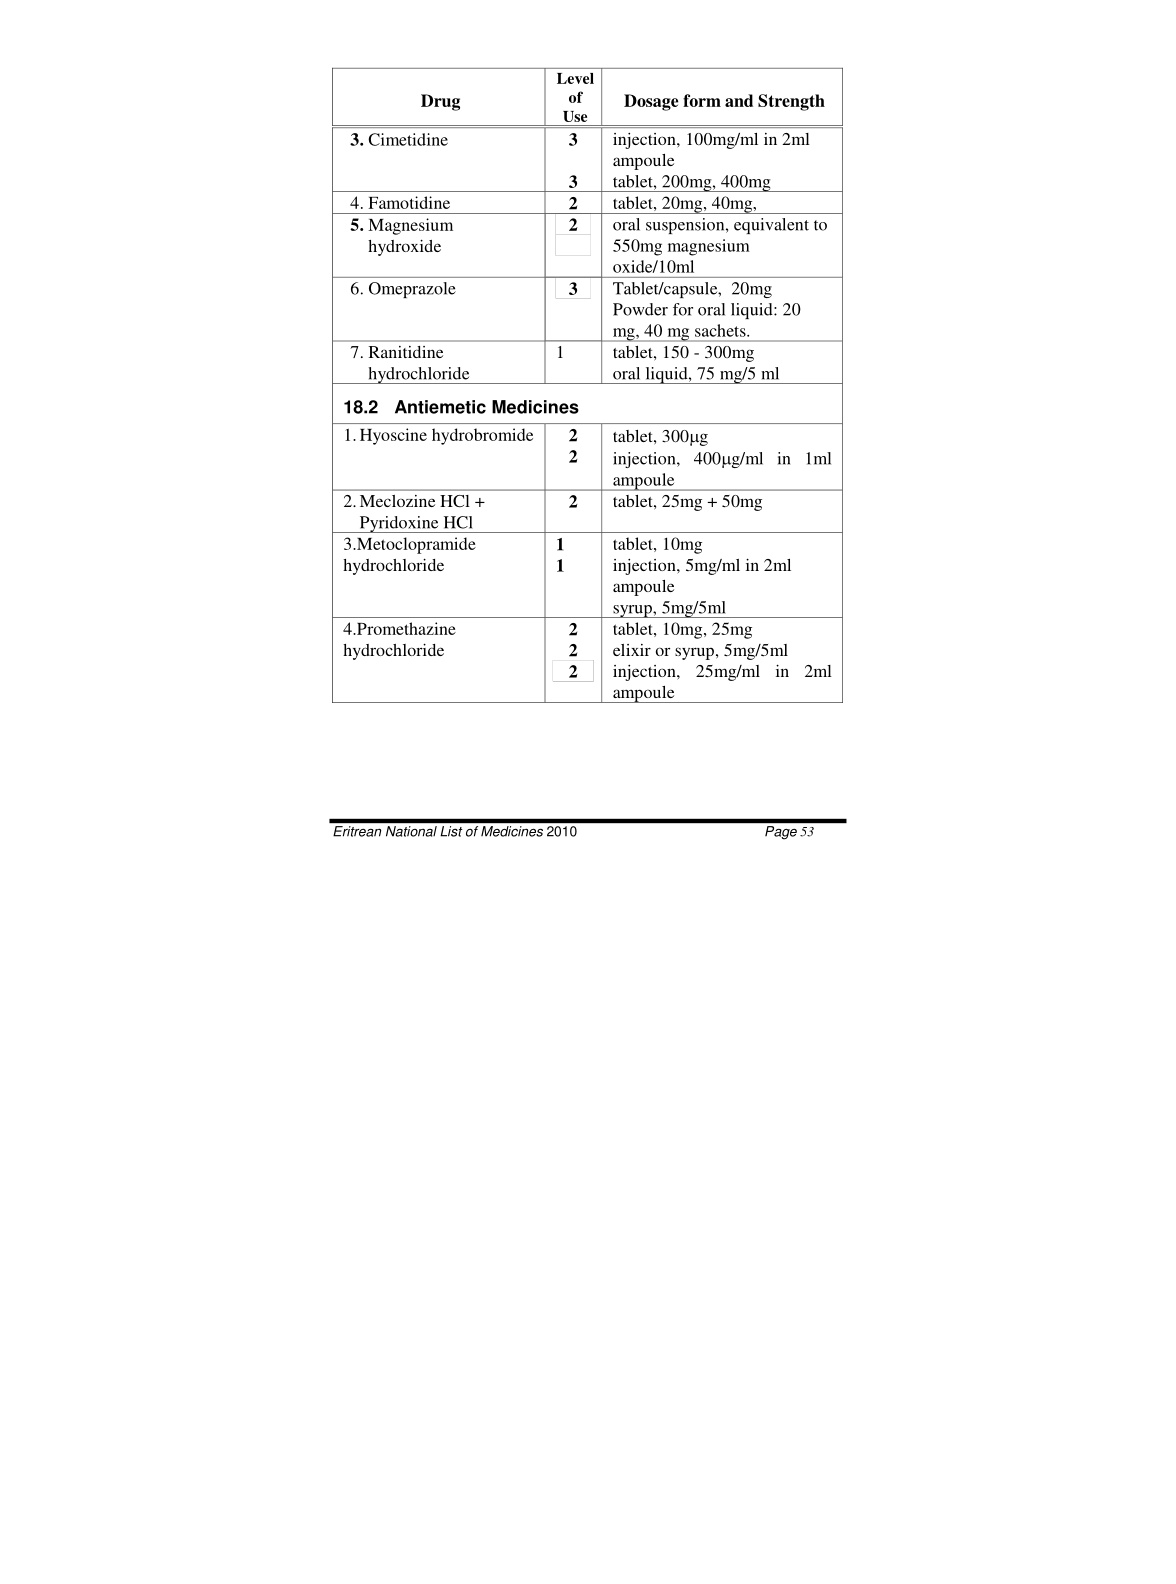merged_cells: (330, 67, 844, 704)
